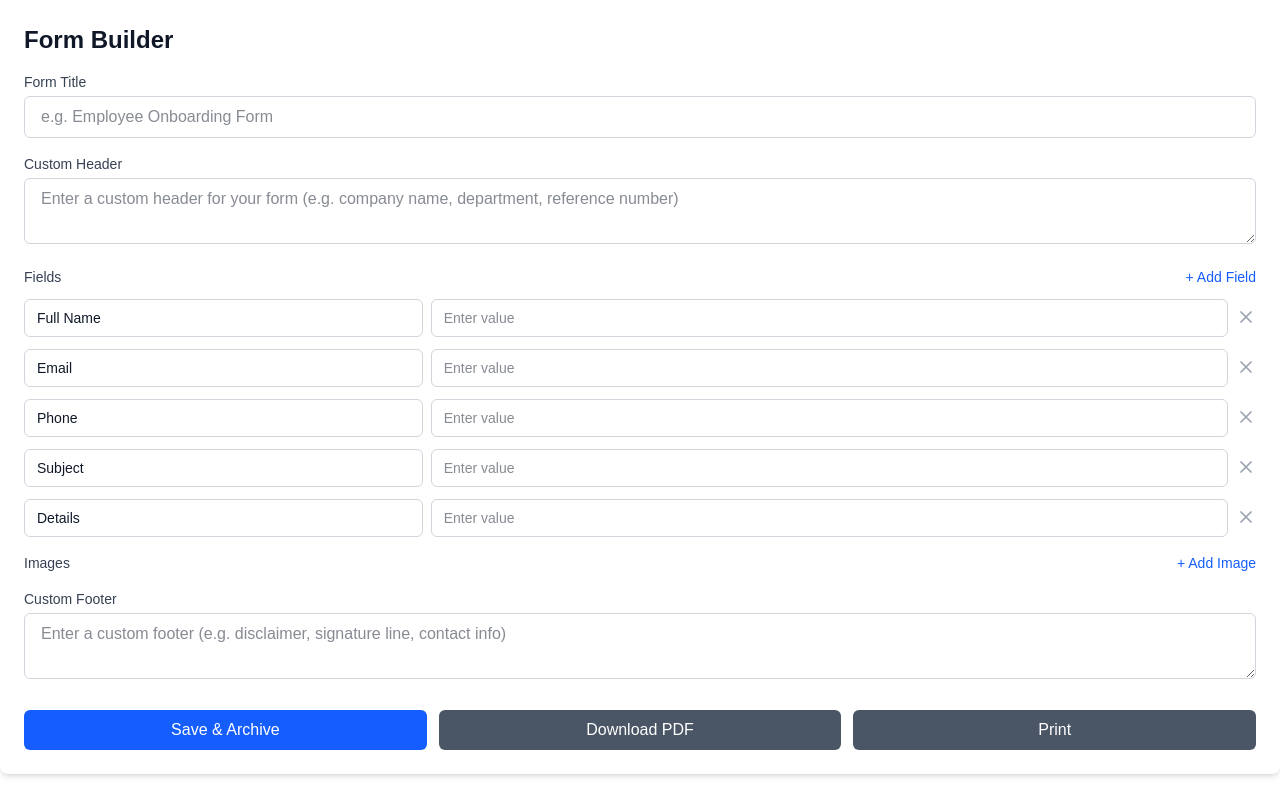
Test: FormBuilder › cannot remove the last field
Click the button named "Remove field" at (1246, 317), box left=1236, top=307, right=1256, bottom=327
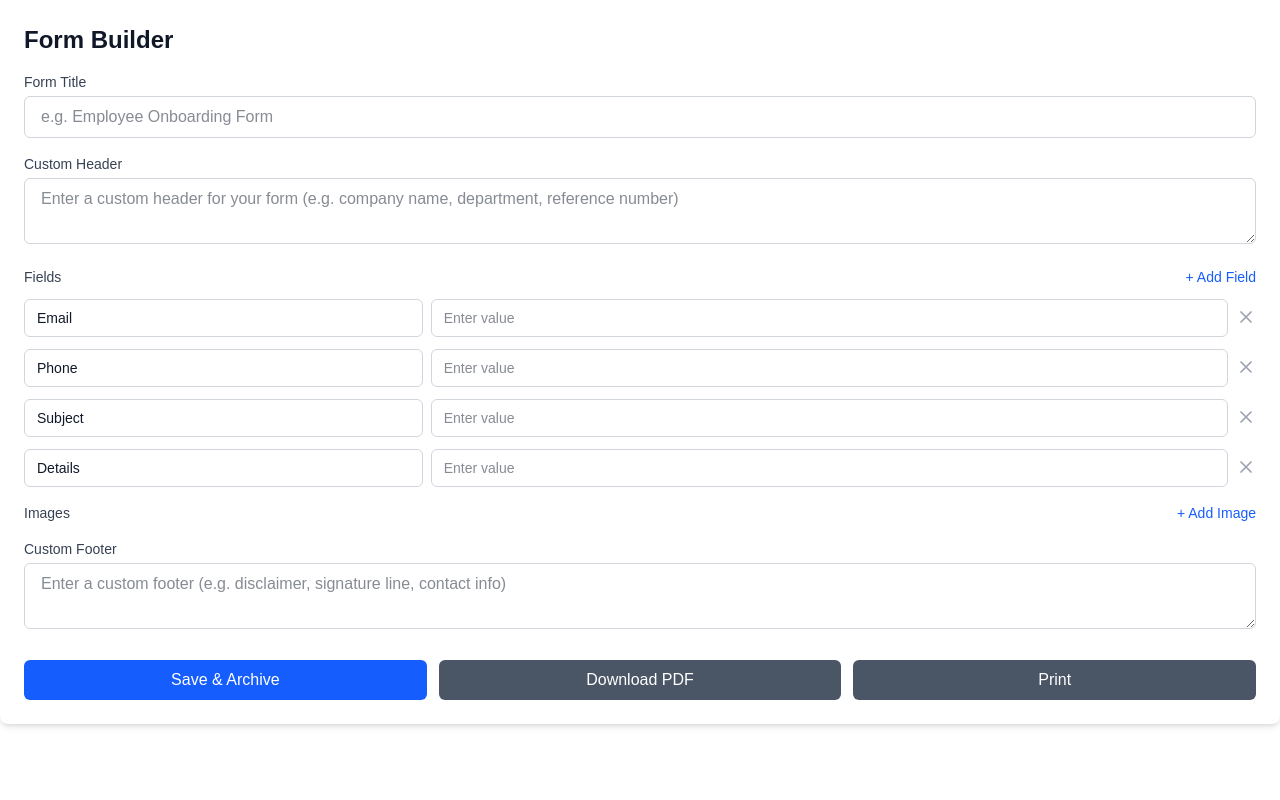
Click the button named "Remove field" at (1246, 317), box left=1236, top=307, right=1256, bottom=327
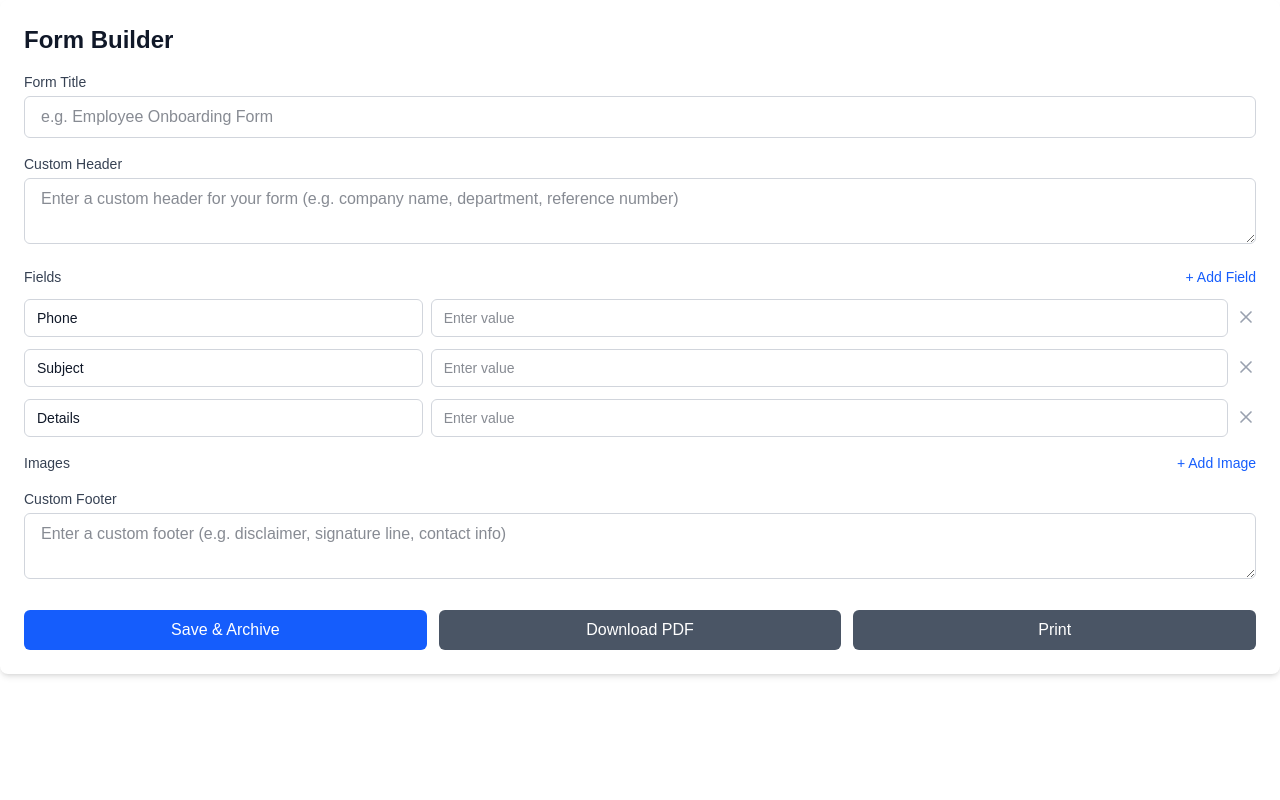
Click the button named "Remove field" at (1246, 317), box left=1236, top=307, right=1256, bottom=327
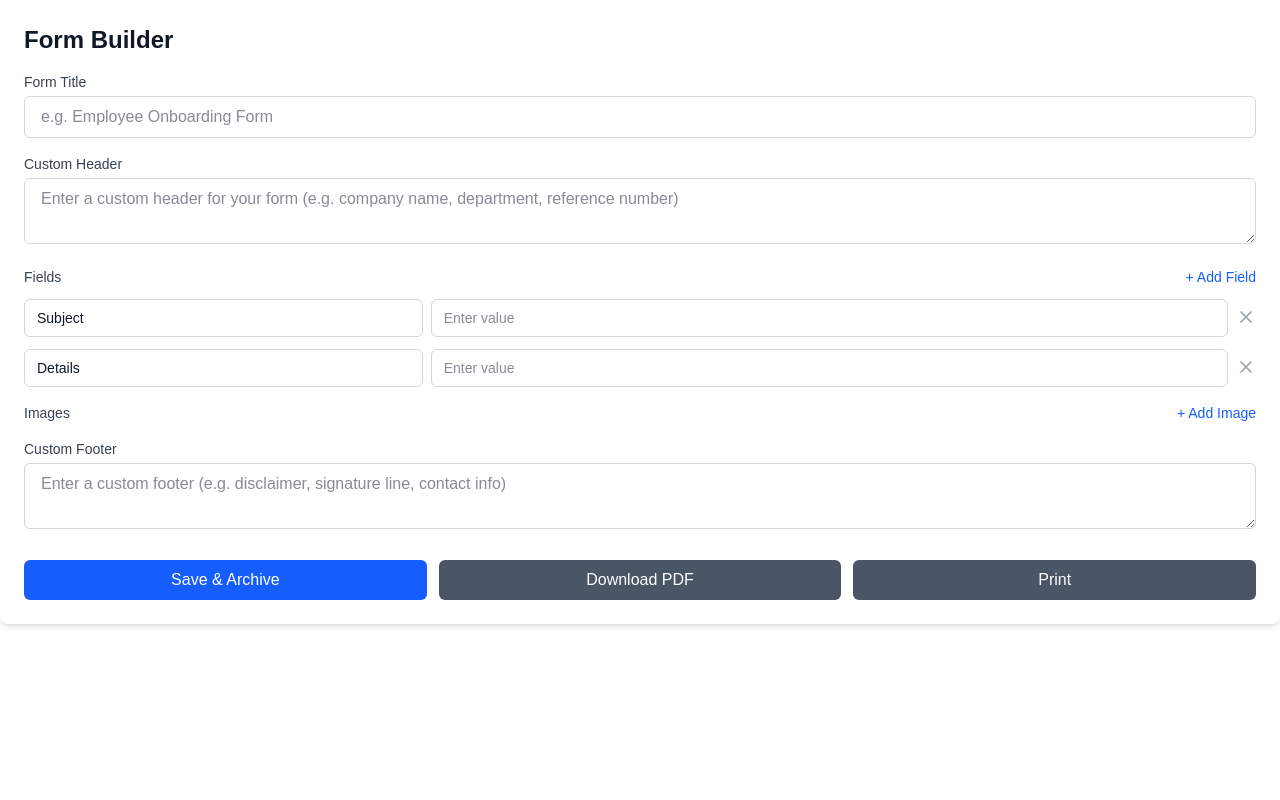
Click the button named "Remove field" at (1246, 317), box left=1236, top=307, right=1256, bottom=327
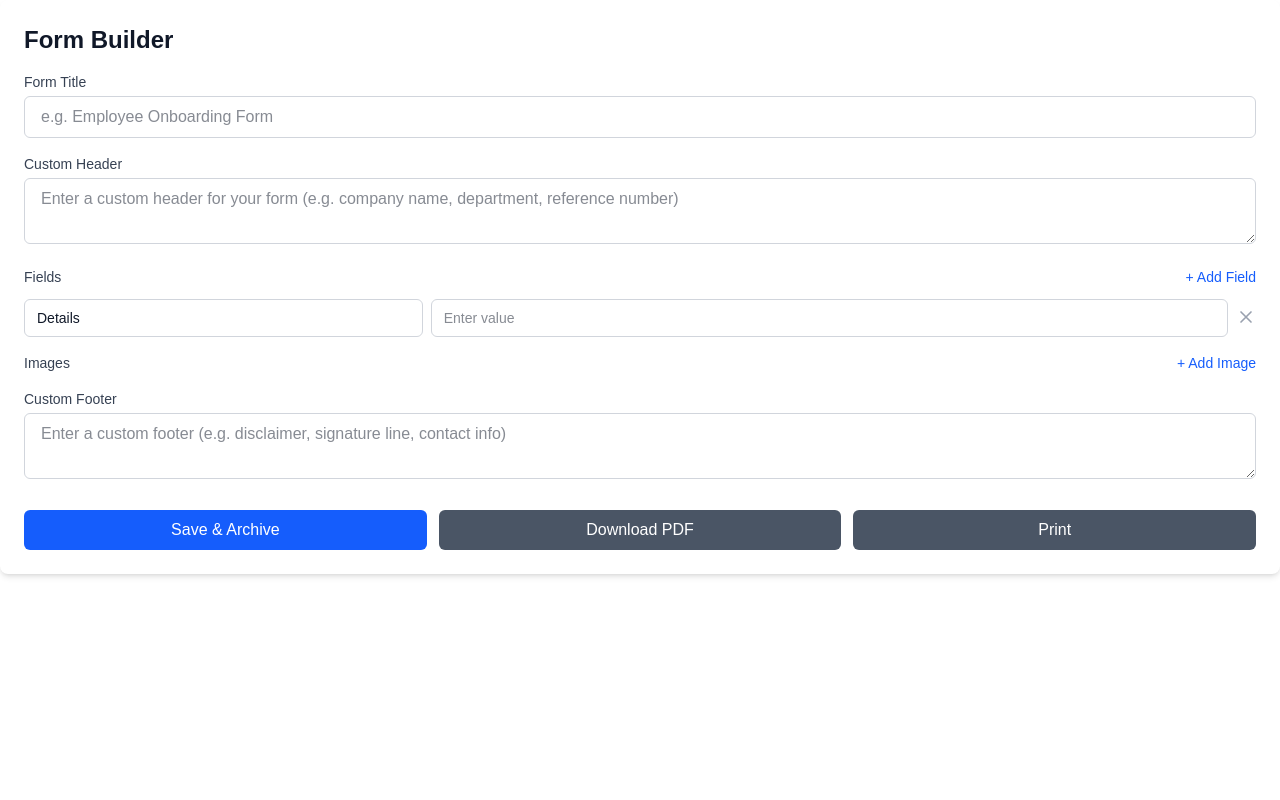
Result: the number of fields with placeholder "Field label" is 1 at left=24, top=299, right=423, bottom=337
